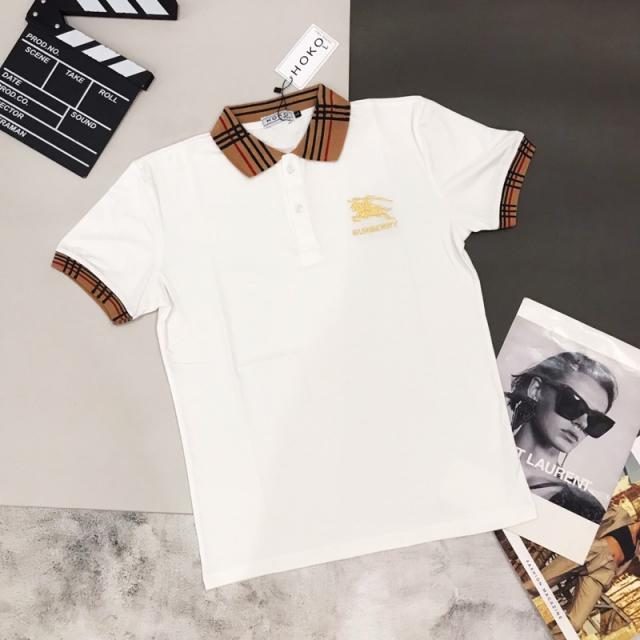Shirt: (46, 81, 546, 596)
